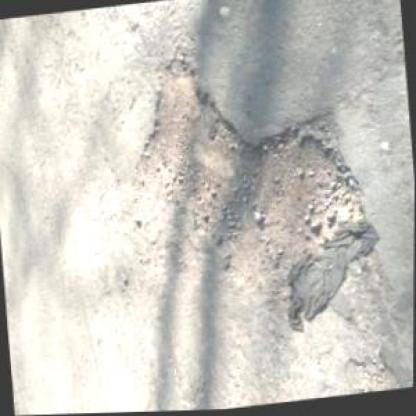pothole: (126, 32, 379, 313)
